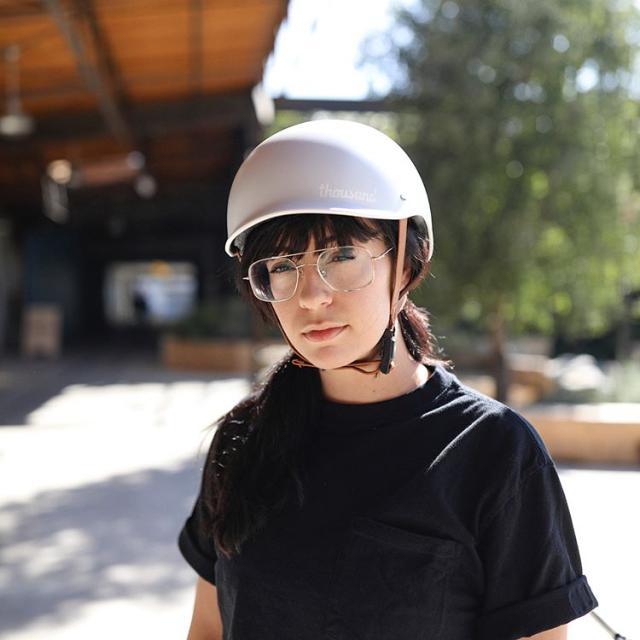illegal_helmet: (219, 112, 444, 382)
